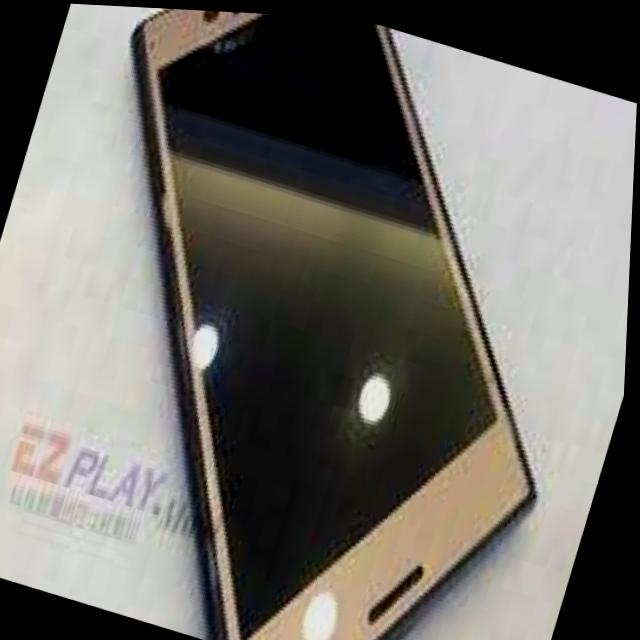Smartphone: (107, 6, 559, 640)
